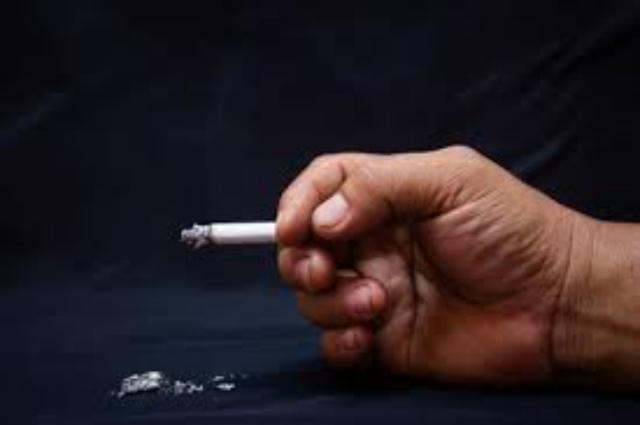Cigarette: (180, 222, 350, 250)
